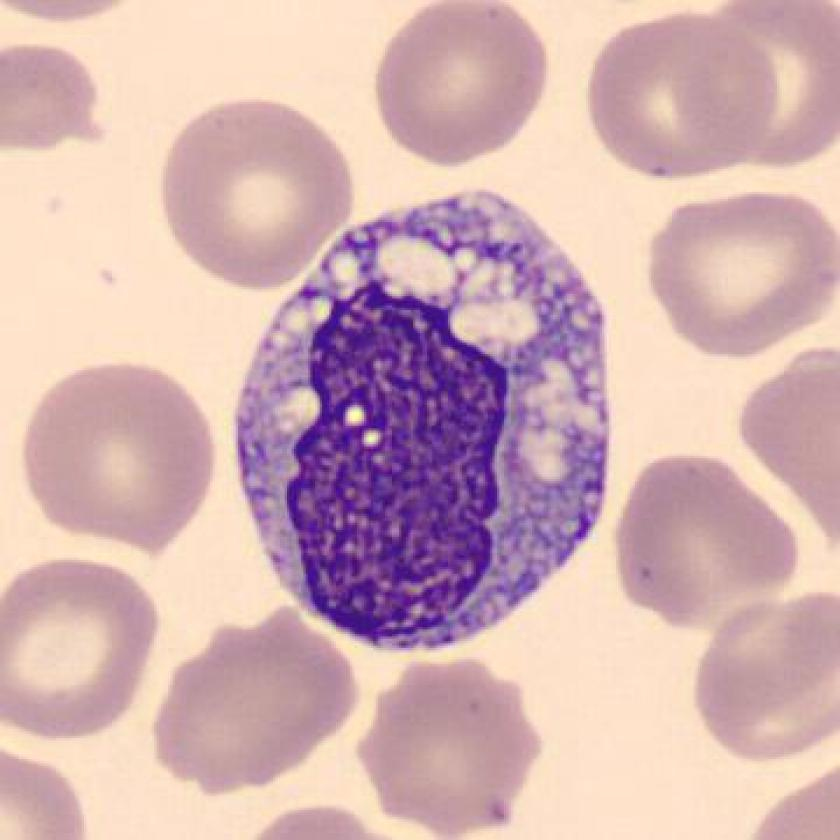monocyte: (211, 168, 631, 675)
